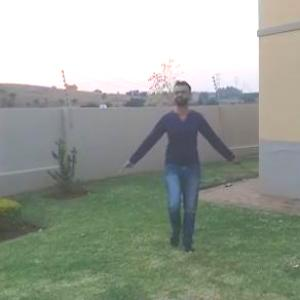land: (134, 92, 224, 221)
